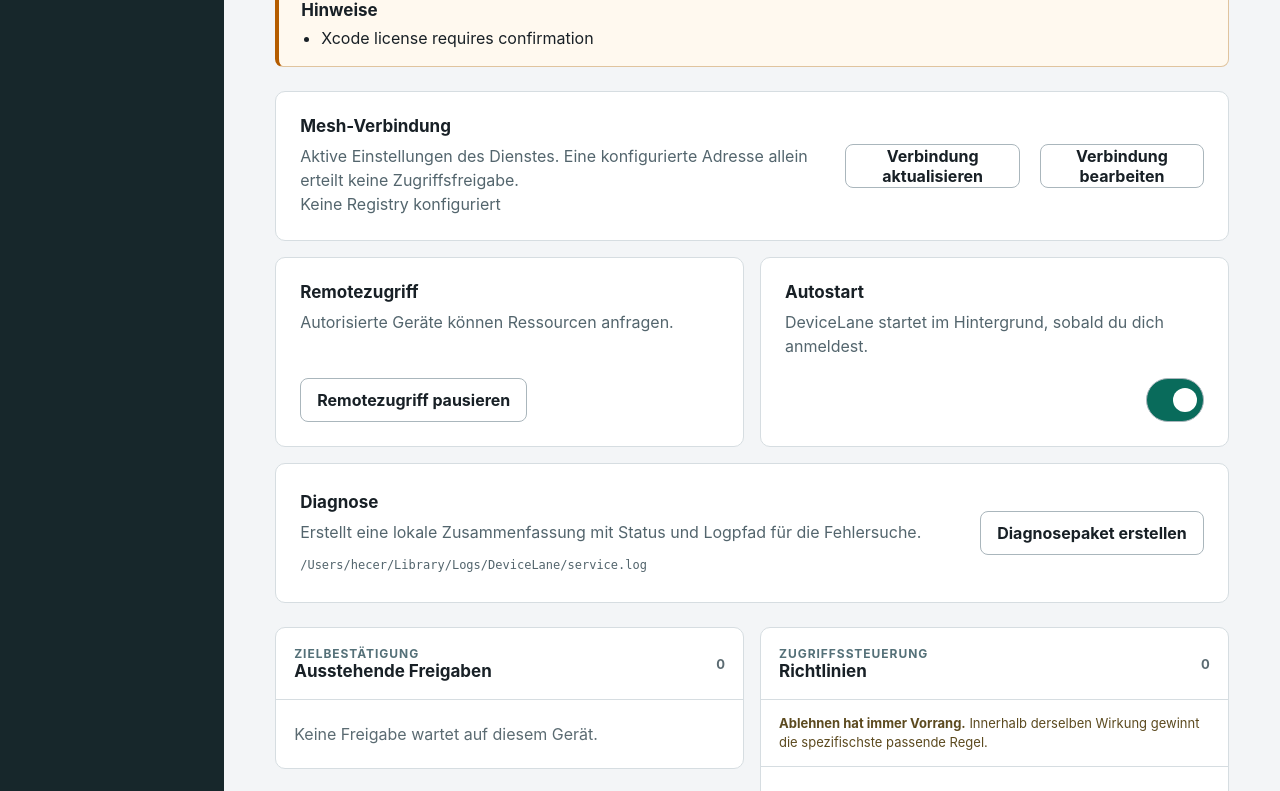
DeviceLane desktop foundation › refreshes daemon state after a failed control action
The image size is (1280, 791).
(page scrolled)
Click the button "Remotezugriff pausieren" at (414, 400), box [300,378,527,422]
(page scrolled)
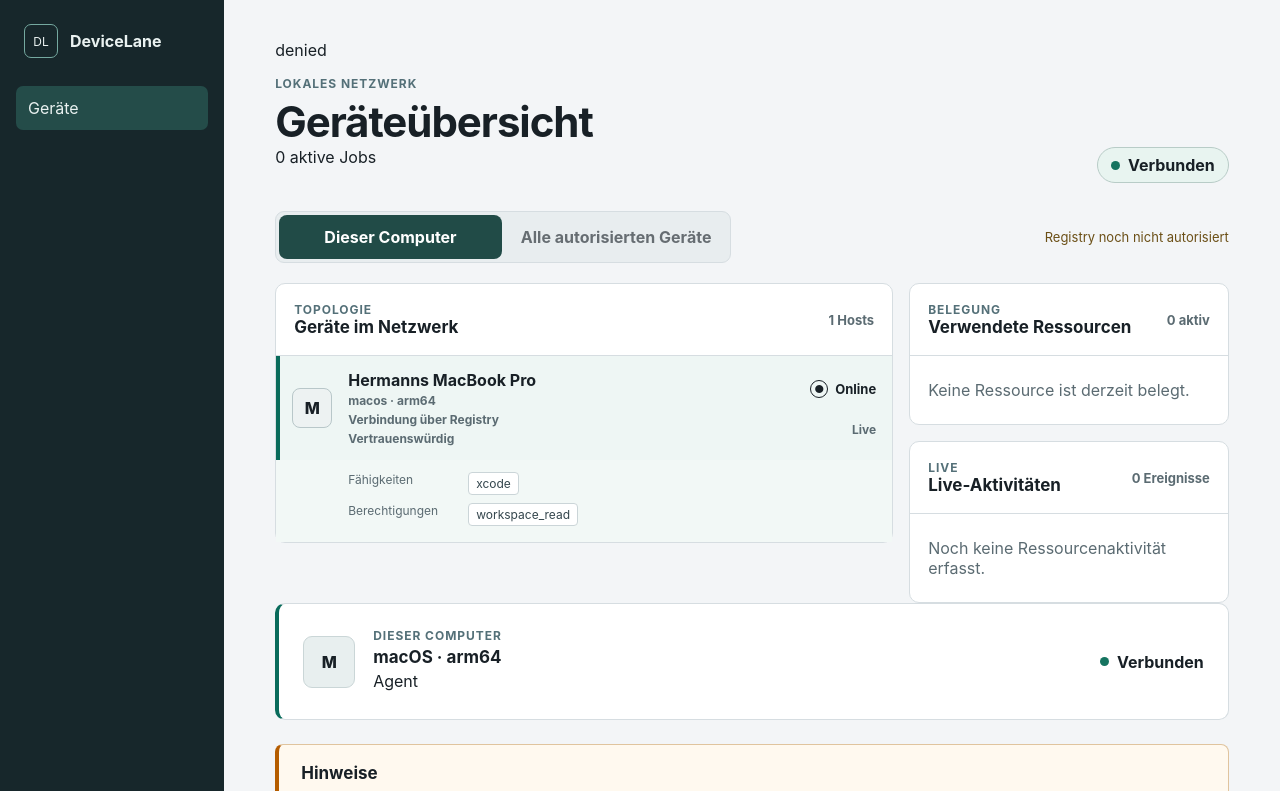
Expected: the text "Verbunden" is shown 2 times, [1097,147,1229,183]; [1100,652,1204,672]
Now the message reads "denied", box [275,40,327,60]
